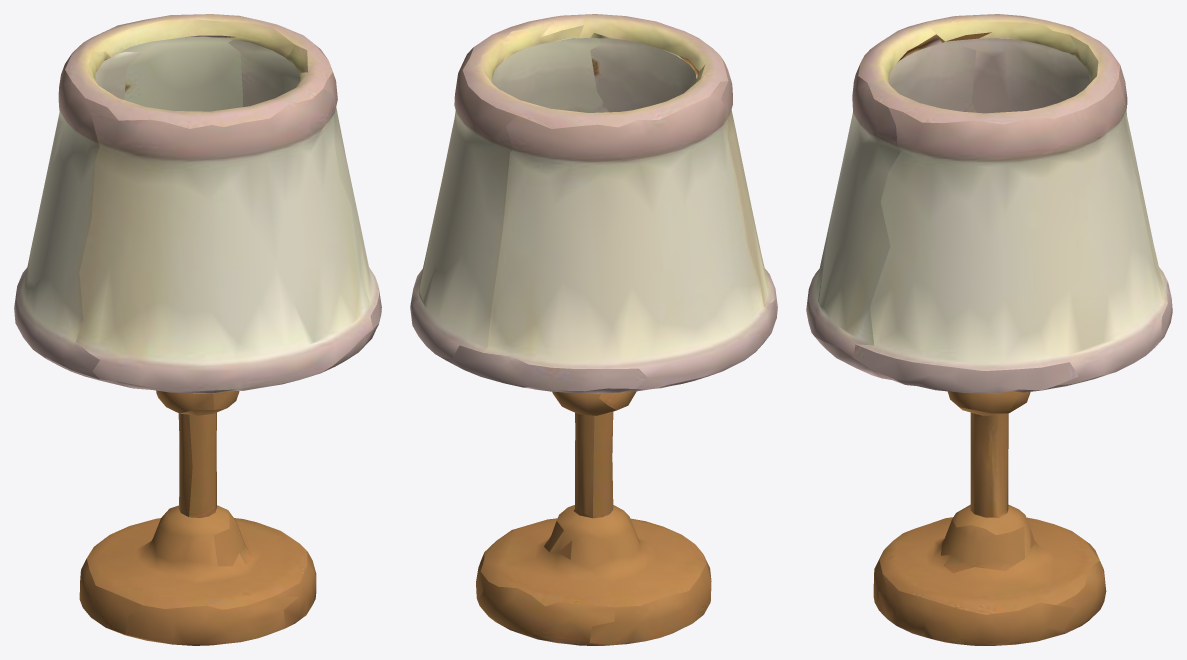
The model's file is lamp.glb.
3 renders of one model, left to right at view 1: azimuth 30°, elevation 25°; view 2: azimuth 150°, elevation 25°; view 3: azimuth 270°, elevation 25°, orthographic.
Parts seen in each view (by area): view 1: lamp_s41; view 2: lamp_s41; view 3: lamp_s41.
Boxes of the visible parts, x1,y1,x2,y2 form: lamp_s41: (14,14,381,645); lamp_s41: (410,14,777,645); lamp_s41: (806,14,1172,645).
Bounding box in the file's own units: 0.6242 × 1 × 0.6239.
1 material, 1 textured.
